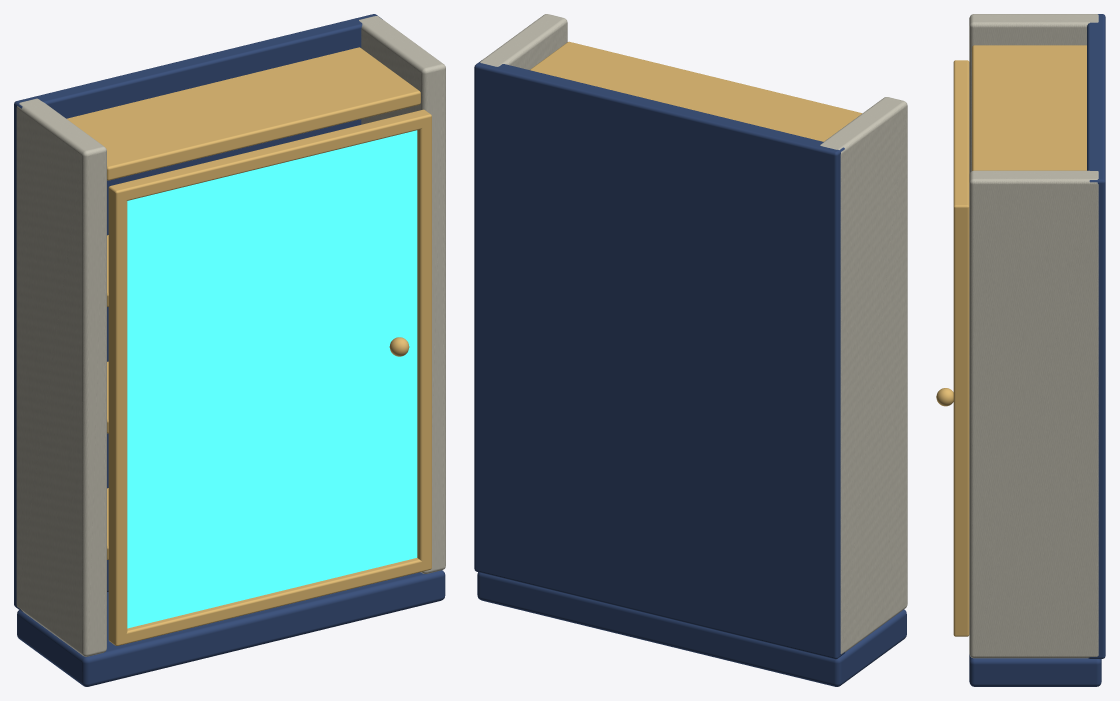
File: arcane-academy-and-spell-trials-relic-cabinet-f7023a55__28305.glb
3 renders of one model, left to right at view 1: azimuth 30°, elevation 25°; view 2: azimuth 150°, elevation 25°; view 3: azimuth 270°, elevation 25°, orthographic. The views are drawn at different scales.
Visible parts, largest first — view 1: cabinet (×2), relic-cabinet; view 2: relic-cabinet; view 3: relic-cabinet, cabinet.
Boxes of the visible parts, x1,y1,x2,y2 form: cabinet (×2): [108, 109, 431, 645]; relic-cabinet: [14, 14, 445, 686]; relic-cabinet: [474, 14, 907, 686]; relic-cabinet: [969, 14, 1105, 686]; cabinet: [936, 60, 969, 636].
Size of the model in its own units: 1.5 by 2.12 by 0.64.
4 materials, 1 textured.
